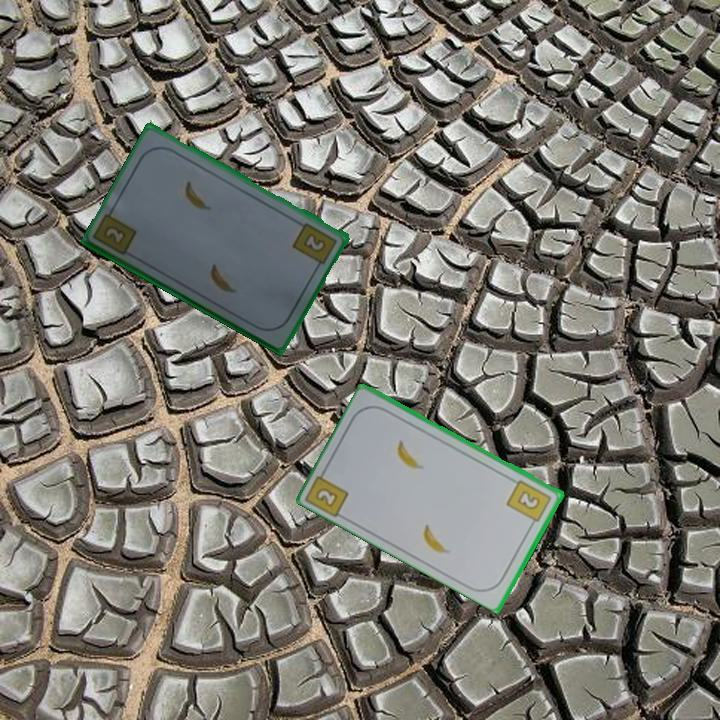2b: (503, 476, 555, 529), (289, 219, 340, 271), (312, 484, 341, 510), (102, 224, 129, 248)
